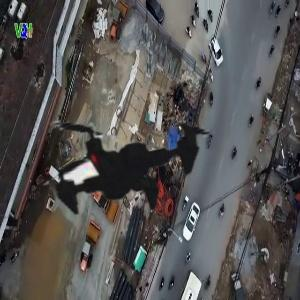drone: (4, 31, 249, 276)
